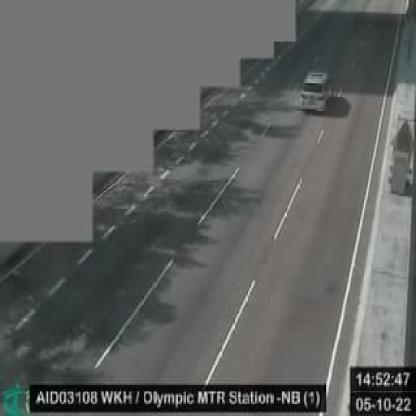Car: (298, 69, 329, 113)
